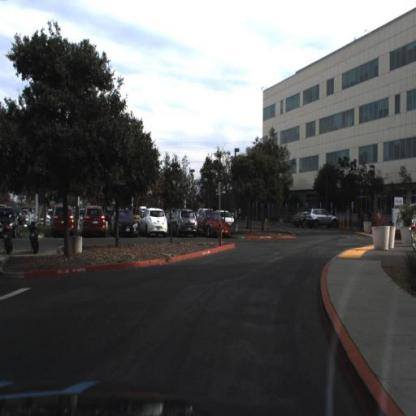car: (197, 209, 231, 239), (139, 207, 170, 238), (305, 206, 342, 231), (169, 208, 199, 238), (110, 209, 141, 238), (51, 204, 76, 239), (82, 205, 108, 238), (1, 206, 22, 238), (221, 209, 235, 227)
